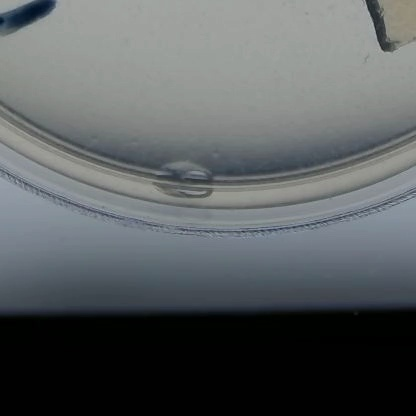worm: (354, 43, 375, 66), (354, 0, 364, 8)
